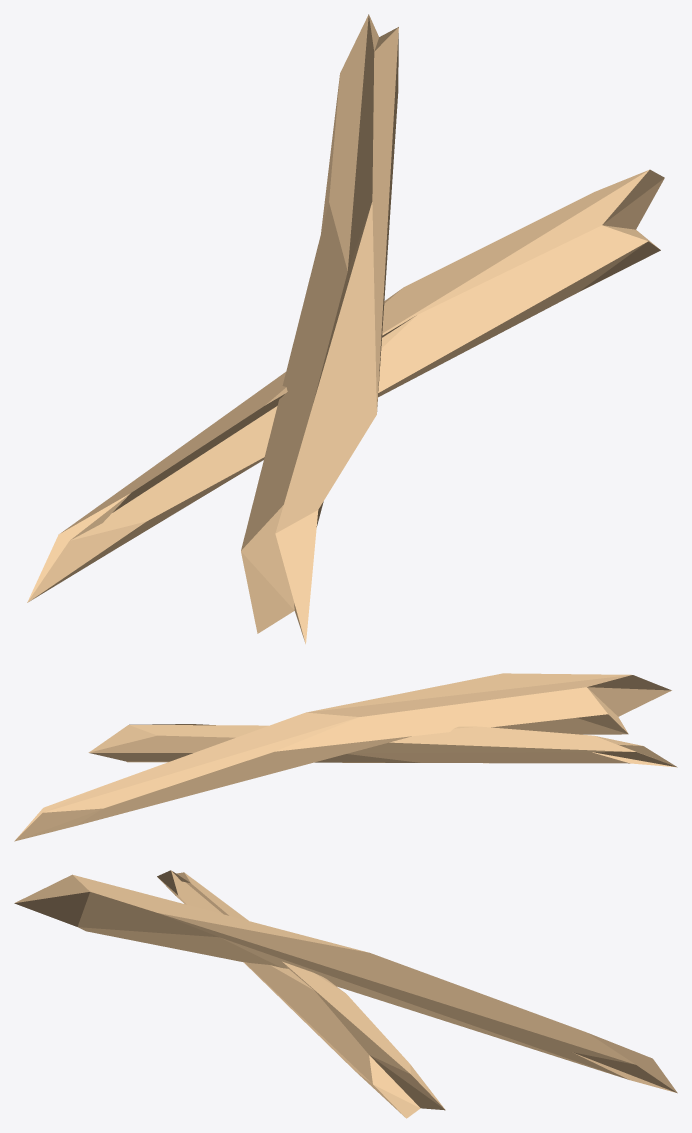
The model's file is Branch 5.fbx.
3 renders of one model, top to bottom at view 1: azimuth 30°, elevation 25°; view 2: azimuth 150°, elevation 25°; view 3: azimuth 270°, elevation 25°, orthographic. The views are drawn at different scales.
Parts seen in each view (by area): view 1: Branch 5; view 2: Branch 5; view 3: Branch 5.
Boxes of the visible parts, x1,y1,x2,y2 form: Branch 5: (27, 14, 664, 644); Branch 5: (14, 673, 677, 841); Branch 5: (14, 870, 677, 1118).
Bounding box in the file's own units: 35.6 × 5.73 × 42.18.
